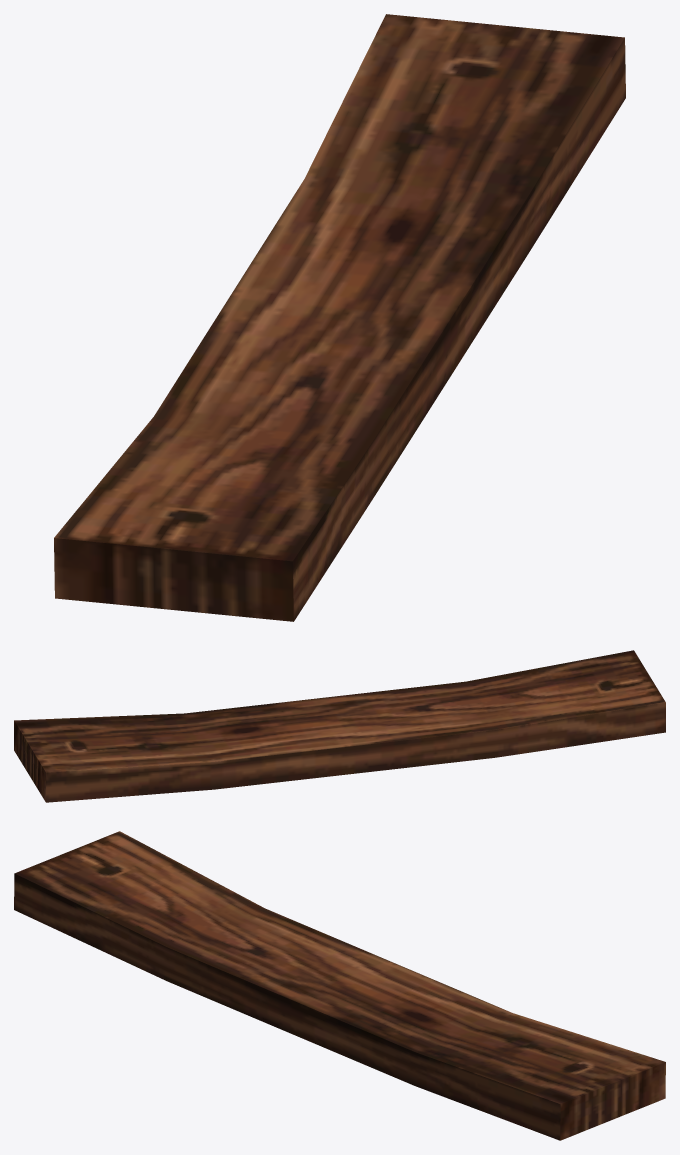
Rendered from OVERHILL_A_01_WOOD_BOARD_25.fbx.
The picture shows the model from 3 angles, top to bottom: view 1: azimuth 30°, elevation 25°; view 2: azimuth 150°, elevation 25°; view 3: azimuth 270°, elevation 25°; orthographic projection. The views are drawn at different scales.
Parts seen in each view (by area): view 1: OVERHILL_A_01_WOOD_BOARD_25; view 2: OVERHILL_A_01_WOOD_BOARD_25; view 3: OVERHILL_A_01_WOOD_BOARD_25.
Part boxes in pixels (box(x1,y1,x2,y2)): OVERHILL_A_01_WOOD_BOARD_25: box(54, 14, 625, 621); OVERHILL_A_01_WOOD_BOARD_25: box(14, 650, 665, 802); OVERHILL_A_01_WOOD_BOARD_25: box(14, 831, 665, 1140).
Bounding box in the file's own units: 15412 × 1257 × 15412.
Materials: 1 (1 with a texture image).
